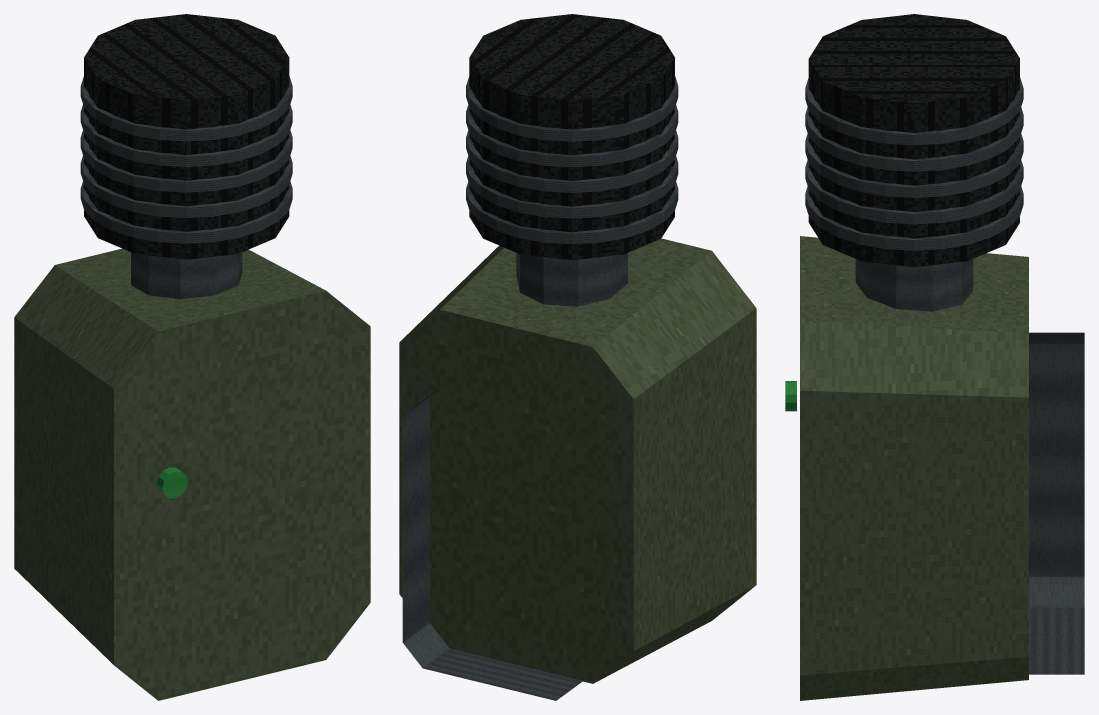
File: blender_sound_sensor_1.glb
3 views of the same model, side by side, from view 1: azimuth 30°, elevation 25°; view 2: azimuth 150°, elevation 25°; view 3: azimuth 270°, elevation 25° (orthographic). The views are drawn at different scales.
Visible parts, largest first — view 1: blender_sound_sensor_1; view 2: blender_sound_sensor_1; view 3: blender_sound_sensor_1.
Boxes of the visible parts, x1,y1,x2,y2 form: blender_sound_sensor_1: (14, 14, 370, 700); blender_sound_sensor_1: (399, 14, 756, 700); blender_sound_sensor_1: (785, 14, 1084, 700).
Size of the model in its own units: 0.052 by 0.1128 by 0.051.
4 materials, 4 textured.
